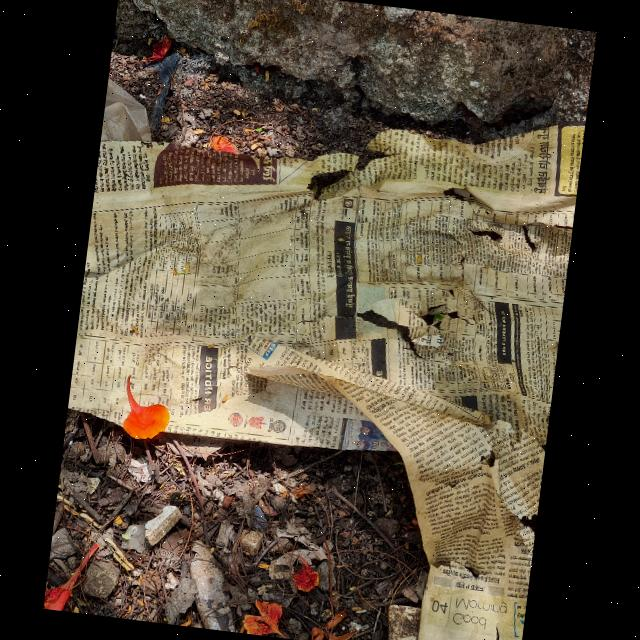trash: (43, 51, 587, 640)
